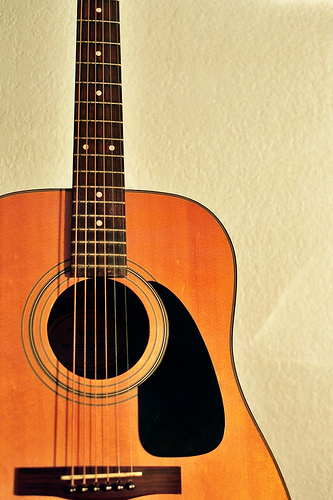guitar: (1, 1, 292, 495)
